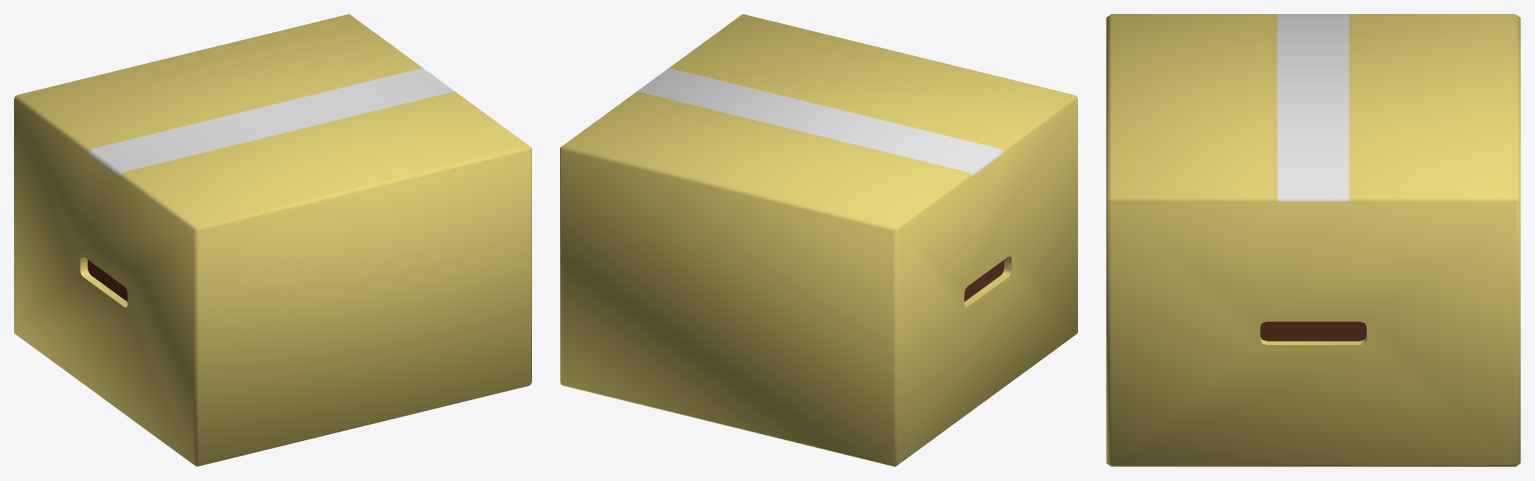
The picture shows the model from 3 angles, left to right: view 1: azimuth 30°, elevation 25°; view 2: azimuth 150°, elevation 25°; view 3: azimuth 270°, elevation 25°; orthographic projection. The views are drawn at different scales.
Visible parts, largest first — view 1: Cube.013; view 2: Cube.013; view 3: Cube.013.
Part boxes in pixels (x1,y1,x2,y2): Cube.013: (14,14,531,466); Cube.013: (560,14,1077,466); Cube.013: (1106,14,1520,466).
Bounding box in the file's own units: 0.8935 × 0.6074 × 0.8424.
